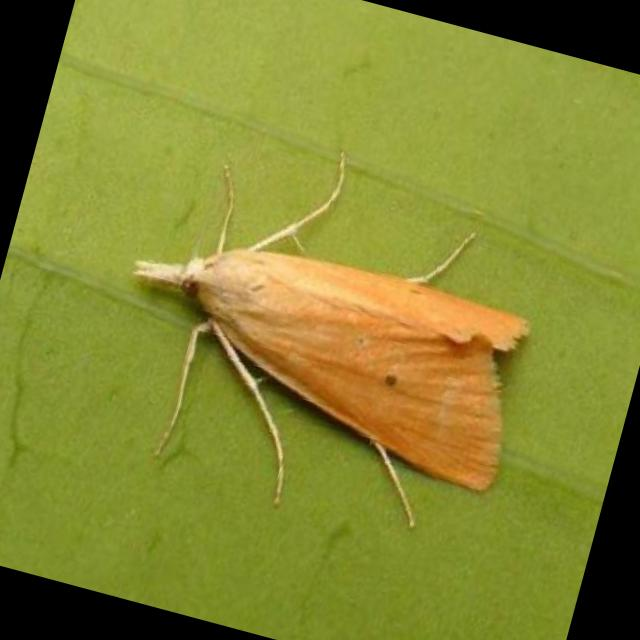stem-borer: (88, 183, 550, 522)
